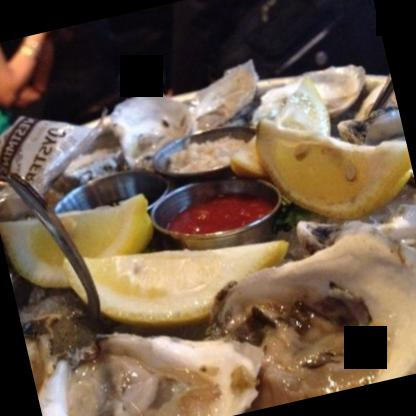lemon: (251, 91, 415, 228), (0, 185, 167, 299)
oyster: (201, 222, 415, 415), (29, 305, 268, 415)
